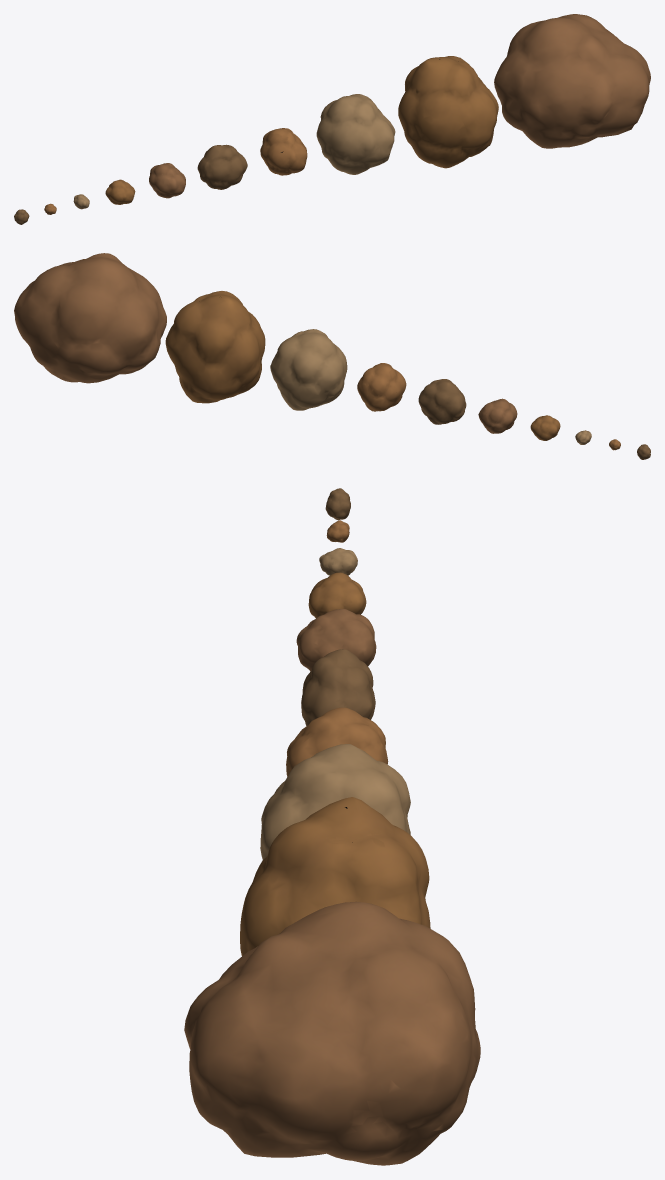
Rendered from meteorites.glb.
3 views of the same model, one above another, from view 1: azimuth 30°, elevation 25°; view 2: azimuth 150°, elevation 25°; view 3: azimuth 270°, elevation 25° (orthographic). The views are drawn at different scales.
Visible parts, largest first — view 1: Meteorite_Large_03, Meteorite_Large_02, Meteorite_Large_01, Meteorite_Medium_04, Meteorite_Medium_03, Meteorite_Medium_02, Meteorite_Medium_01; view 2: Meteorite_Large_03, Meteorite_Large_02, Meteorite_Large_01, Meteorite_Medium_04, Meteorite_Medium_03, Meteorite_Medium_02, Meteorite_Medium_01; view 3: Meteorite_Large_03, Meteorite_Large_02, Meteorite_Large_01, Meteorite_Medium_03, Meteorite_Medium_04, Meteorite_Medium_02, Meteorite_Medium_01.
Part boxes in pixels (box(x1,y1,x2,y2)): Meteorite_Large_03: box(494, 14, 650, 148); Meteorite_Large_02: box(398, 56, 498, 168); Meteorite_Large_01: box(316, 94, 395, 174); Meteorite_Medium_04: box(260, 128, 307, 175); Meteorite_Medium_03: box(197, 144, 247, 189); Meteorite_Medium_02: box(149, 163, 185, 198); Meteorite_Medium_01: box(105, 179, 135, 204); Meteorite_Large_03: box(14, 253, 166, 383); Meteorite_Large_02: box(165, 291, 265, 403); Meteorite_Large_01: box(270, 329, 347, 410); Meteorite_Medium_04: box(357, 363, 406, 411); Meteorite_Medium_03: box(418, 379, 466, 424); Meteorite_Medium_02: box(478, 398, 517, 433); Meteorite_Medium_01: box(530, 415, 560, 440); Meteorite_Large_03: box(184, 901, 480, 1165); Meteorite_Large_02: box(240, 797, 430, 955); Meteorite_Large_01: box(260, 744, 410, 859); Meteorite_Medium_03: box(301, 649, 375, 725); Meteorite_Medium_04: box(286, 707, 388, 776); Meteorite_Medium_02: box(296, 608, 376, 671); Meteorite_Medium_01: box(308, 572, 366, 618).
Bounding box in the file's own units: 21.64 × 3.9 × 4.46.
10 materials, 10 textured.
